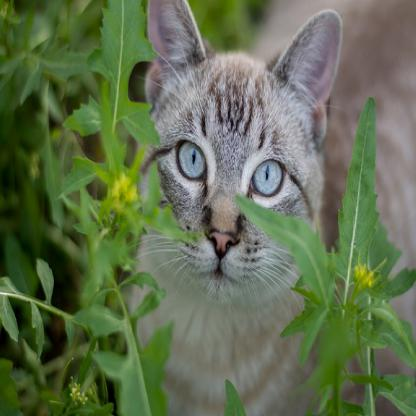cat: (122, 0, 416, 415)
